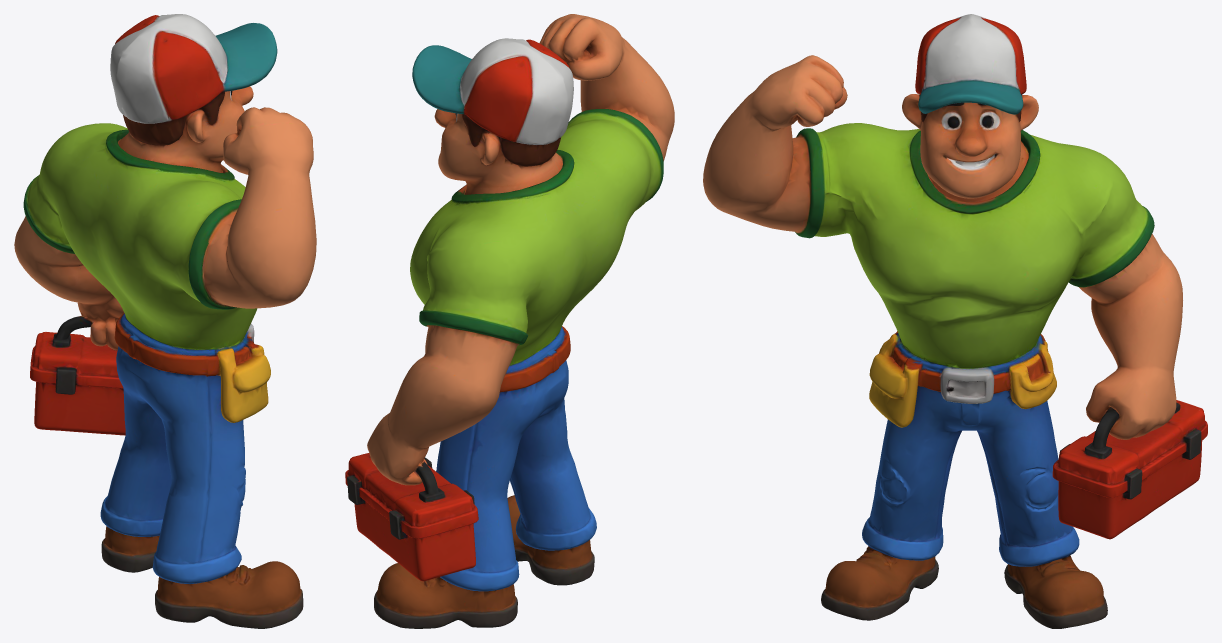
The model's file is handy-manny-3d.glb.
The picture shows the model from 3 angles, left to right: view 1: azimuth 30°, elevation 25°; view 2: azimuth 150°, elevation 25°; view 3: azimuth 270°, elevation 25°; orthographic projection. The views are drawn at different scales.
Parts seen in each view (by area): view 1: tripo_node_d4ea11c7-006c-4fb1-8815-1799d23a0449; view 2: tripo_node_d4ea11c7-006c-4fb1-8815-1799d23a0449; view 3: tripo_node_d4ea11c7-006c-4fb1-8815-1799d23a0449.
Part boxes in pixels (x1,y1,x2,y2): tripo_node_d4ea11c7-006c-4fb1-8815-1799d23a0449: (14,14,316,628); tripo_node_d4ea11c7-006c-4fb1-8815-1799d23a0449: (345,14,674,628); tripo_node_d4ea11c7-006c-4fb1-8815-1799d23a0449: (703,14,1207,628).
Bounding box in the file's own units: 0.3389 × 1 × 0.8039.
1 material, 1 textured.
